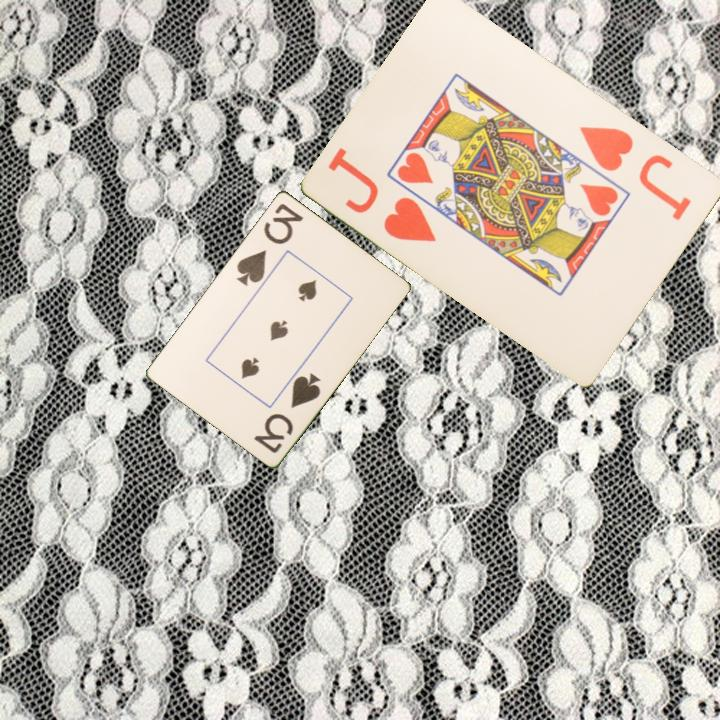3s: (233, 199, 306, 289), (250, 368, 324, 456)
Jh: (576, 122, 695, 223), (380, 193, 440, 245)
